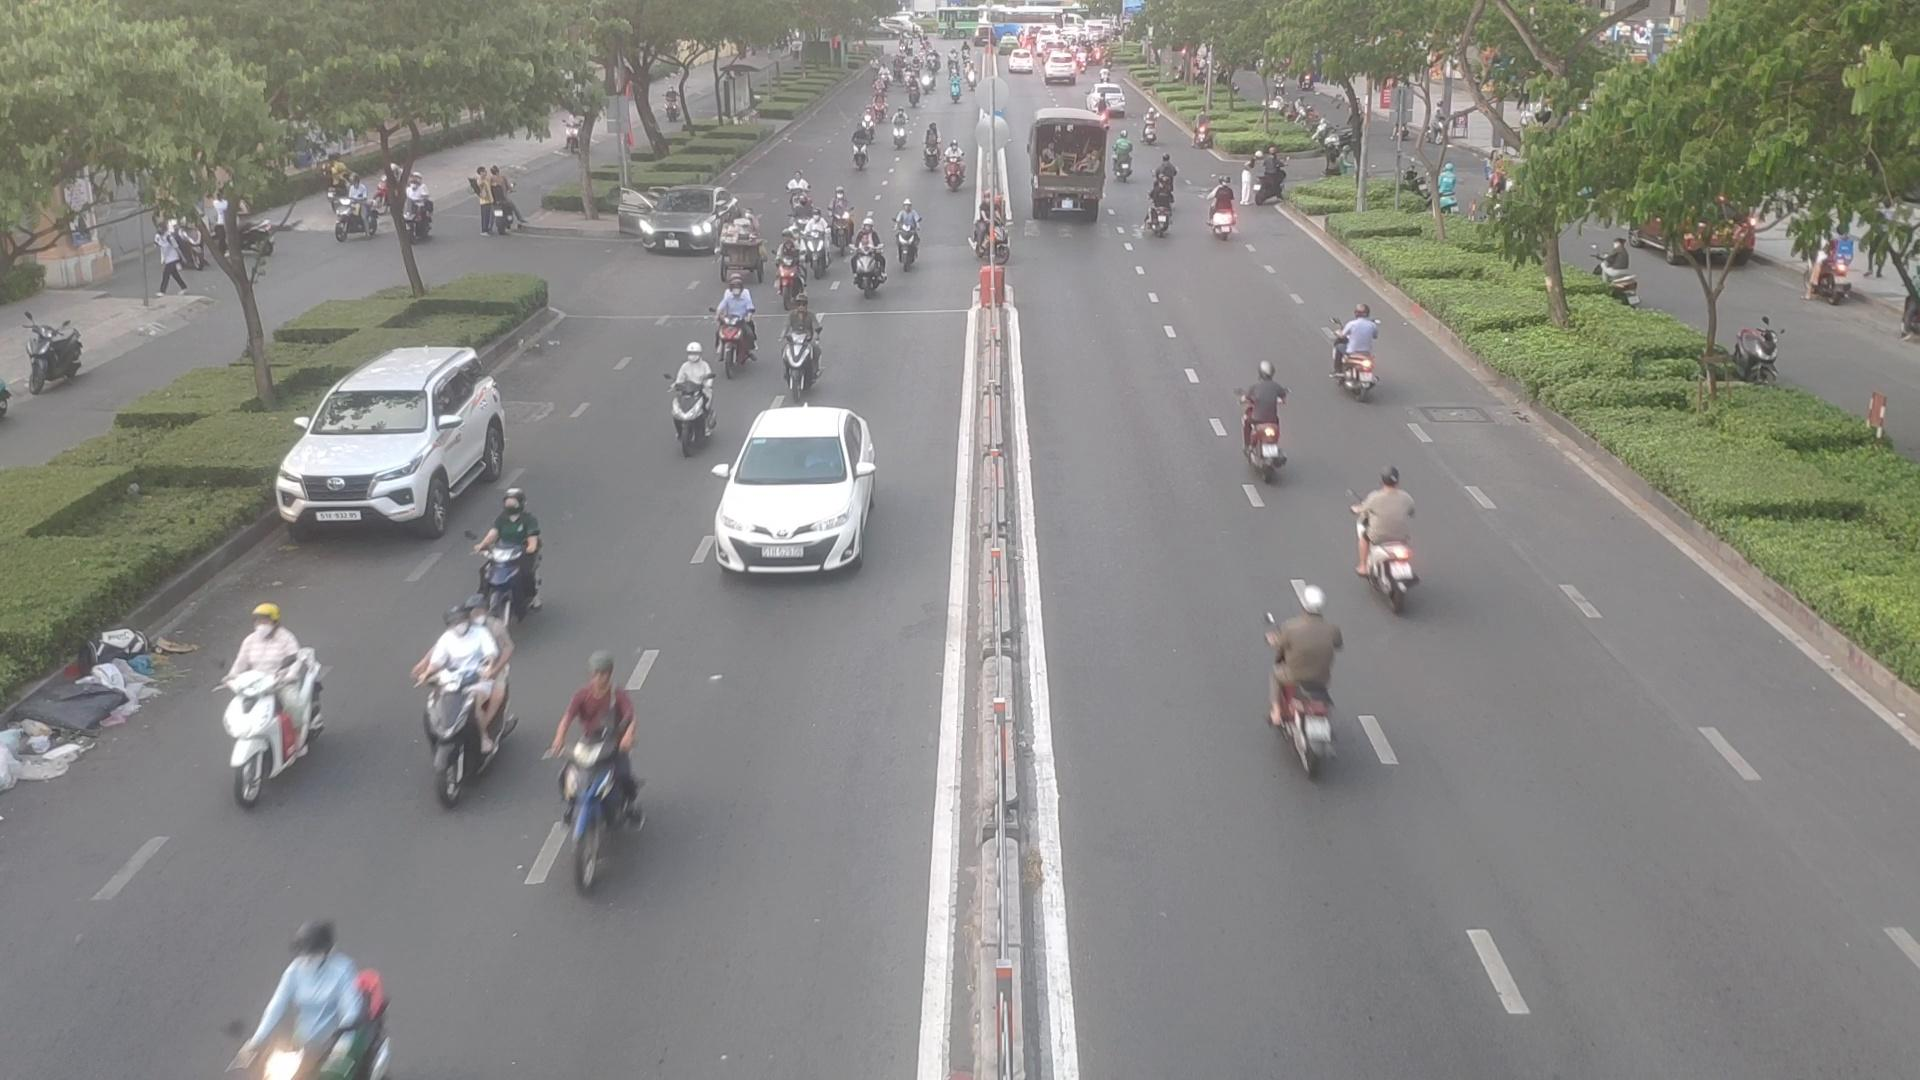car: (280, 349, 524, 541), (694, 406, 881, 574), (615, 191, 735, 260)
motorbike: (518, 709, 659, 887), (218, 934, 384, 1080), (206, 608, 328, 796), (415, 613, 516, 795), (1346, 472, 1425, 608), (467, 485, 554, 604), (1236, 364, 1294, 473), (1327, 305, 1389, 388), (667, 349, 723, 440), (709, 284, 764, 368), (782, 297, 833, 382), (794, 216, 835, 273), (848, 239, 887, 297), (1211, 183, 1246, 240), (1146, 182, 1180, 236), (890, 210, 920, 269), (943, 145, 971, 193), (885, 116, 910, 152)
